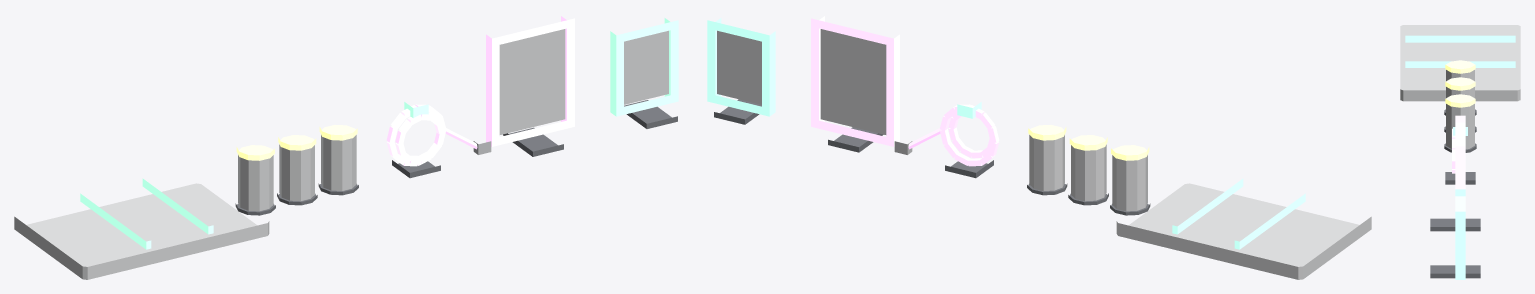
File: iter_04.glb
3 views of the same model, side by side, from view 1: azimuth 30°, elevation 25°; view 2: azimuth 150°, elevation 25°; view 3: azimuth 270°, elevation 25° (orthographic). The views are drawn at different scales.
Parts seen in each view (by area): view 1: Meal_Tray, Photo_Frame_Decal_Face, Photo_Frame, Photo_Frame_Small_Decal_Face, Photo_Frame_Small, Cable_Coil, Cup_2, Cup_0, Cup_1, Tray_Dividers, Photo_Frame_Stand, Photo_Frame_Small_Stand (+4 smaller); view 2: Meal_Tray, Photo_Frame_Decal_Face, Photo_Frame, Photo_Frame_Small_Decal_Face, Photo_Frame_Small, Cable_Coil, Cup_2, Cup_0, Cup_1, Tray_Dividers, Photo_Frame_Stand, Photo_Frame_Small_Stand (+4 smaller); view 3: Meal_Tray, Tray_Dividers, Photo_Frame_Small, Photo_Frame, Cup_2, Photo_Frame_Small_Stand, Photo_Frame_Stand, Cup_0_Lid, Cup_1_Lid, Cup_2_Lid, Coil_Hook_Base, Cup_0 (+3 smaller).
Part boxes in pixels (x1=…): Meal_Tray: x1=14, y1=183, x2=269, y2=279; Photo_Frame_Decal_Face: x1=499, y1=29, x2=565, y2=134; Photo_Frame: x1=486, y1=16, x2=574, y2=146; Photo_Frame_Small_Decal_Face: x1=624, y1=30, x2=668, y2=104; Photo_Frame_Small: x1=610, y1=18, x2=678, y2=116; Cable_Coil: x1=386, y1=104, x2=446, y2=166; Cup_2: x1=321, y1=135, x2=356, y2=190; Cup_0: x1=238, y1=155, x2=273, y2=211; Cup_1: x1=279, y1=144, x2=314, y2=201; Tray_Dividers: x1=80, y1=178, x2=213, y2=249; Photo_Frame_Stand: x1=503, y1=127, x2=563, y2=156; Photo_Frame_Small_Stand: x1=624, y1=100, x2=677, y2=128; Meal_Tray: x1=1116, y1=183, x2=1371, y2=279; Photo_Frame_Decal_Face: x1=820, y1=29, x2=886, y2=134; Photo_Frame: x1=811, y1=16, x2=899, y2=146; Photo_Frame_Small_Decal_Face: x1=717, y1=30, x2=761, y2=104; Photo_Frame_Small: x1=707, y1=18, x2=775, y2=116; Cable_Coil: x1=939, y1=104, x2=999, y2=166; Cup_2: x1=1029, y1=135, x2=1064, y2=190; Cup_0: x1=1112, y1=155, x2=1147, y2=211; Cup_1: x1=1071, y1=144, x2=1106, y2=201; Tray_Dividers: x1=1172, y1=178, x2=1305, y2=249; Photo_Frame_Stand: x1=828, y1=127, x2=883, y2=152; Photo_Frame_Small_Stand: x1=714, y1=99, x2=761, y2=124; Meal_Tray: x1=1400, y1=25, x2=1520, y2=101; Tray_Dividers: x1=1405, y1=35, x2=1515, y2=67; Photo_Frame_Small: x1=1455, y1=189, x2=1465, y2=279; Photo_Frame: x1=1455, y1=115, x2=1465, y2=189; Cup_2: x1=1446, y1=104, x2=1474, y2=149; Photo_Frame_Small_Stand: x1=1430, y1=265, x2=1480, y2=278; Photo_Frame_Stand: x1=1430, y1=218, x2=1480, y2=231; Cup_0_Lid: x1=1445, y1=60, x2=1475, y2=73; Cup_1_Lid: x1=1445, y1=77, x2=1475, y2=90; Cup_2_Lid: x1=1445, y1=94, x2=1475, y2=107; Coil_Hook_Base: x1=1445, y1=172, x2=1475, y2=184; Cup_0: x1=1446, y1=70, x2=1474, y2=81.
Size of the model in its own units: 1.21 by 0.21 by 0.24.
